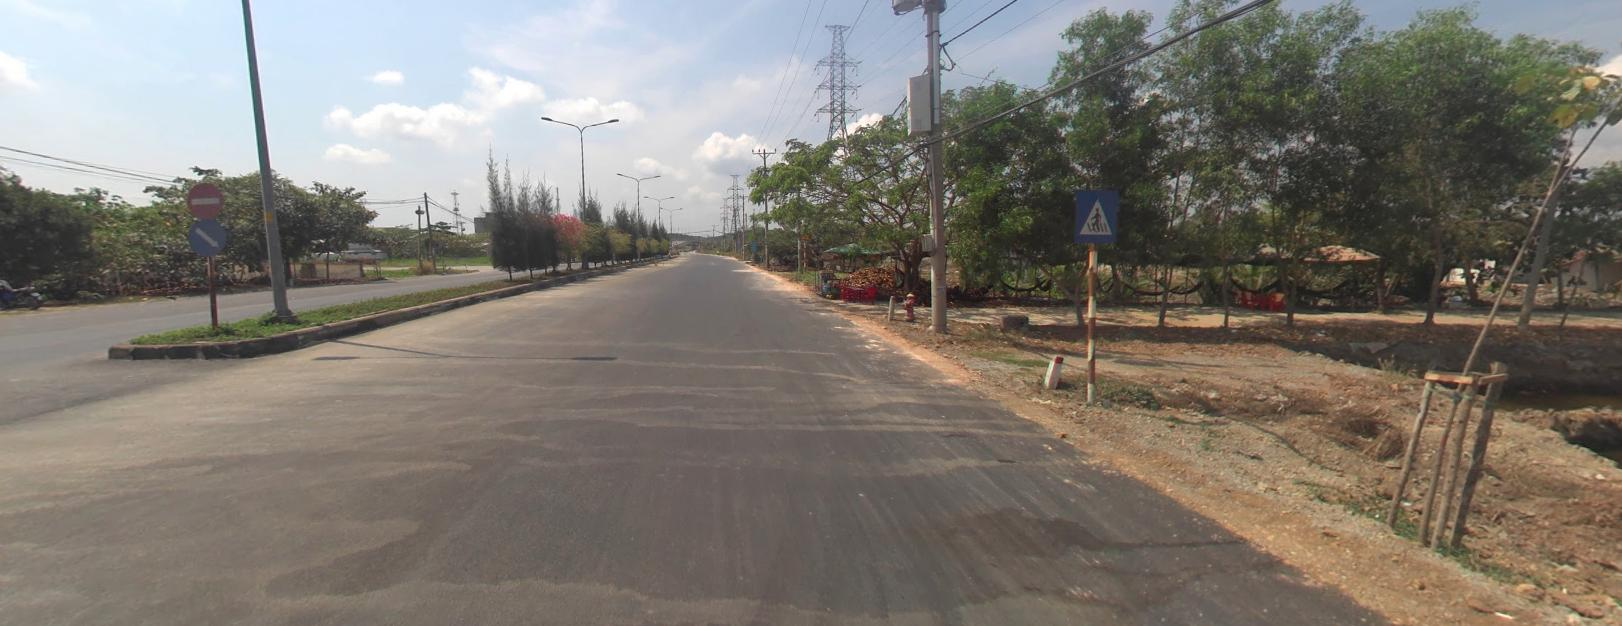Cam nguoc chieu: (187, 182, 223, 217)
Hieu lenh: (188, 217, 226, 254)
Nguy hiem: (799, 227, 811, 238)
